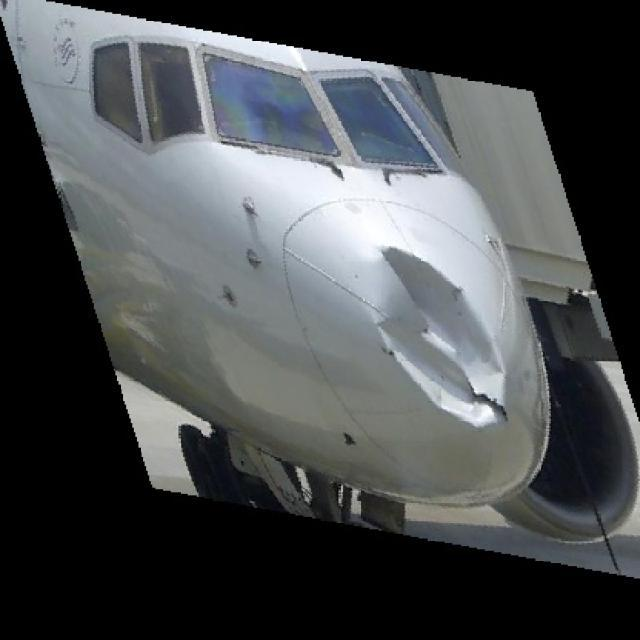dent: (353, 241, 515, 435)
